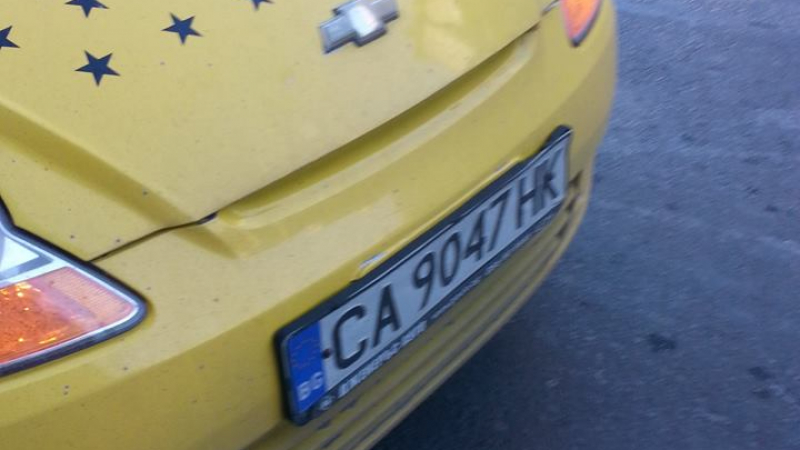registration_plate: (280, 126, 574, 421)
